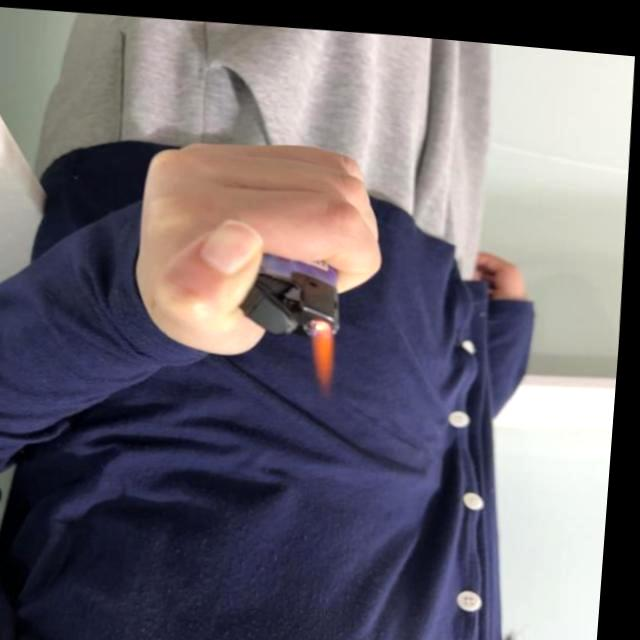fire: (307, 312, 345, 396)
